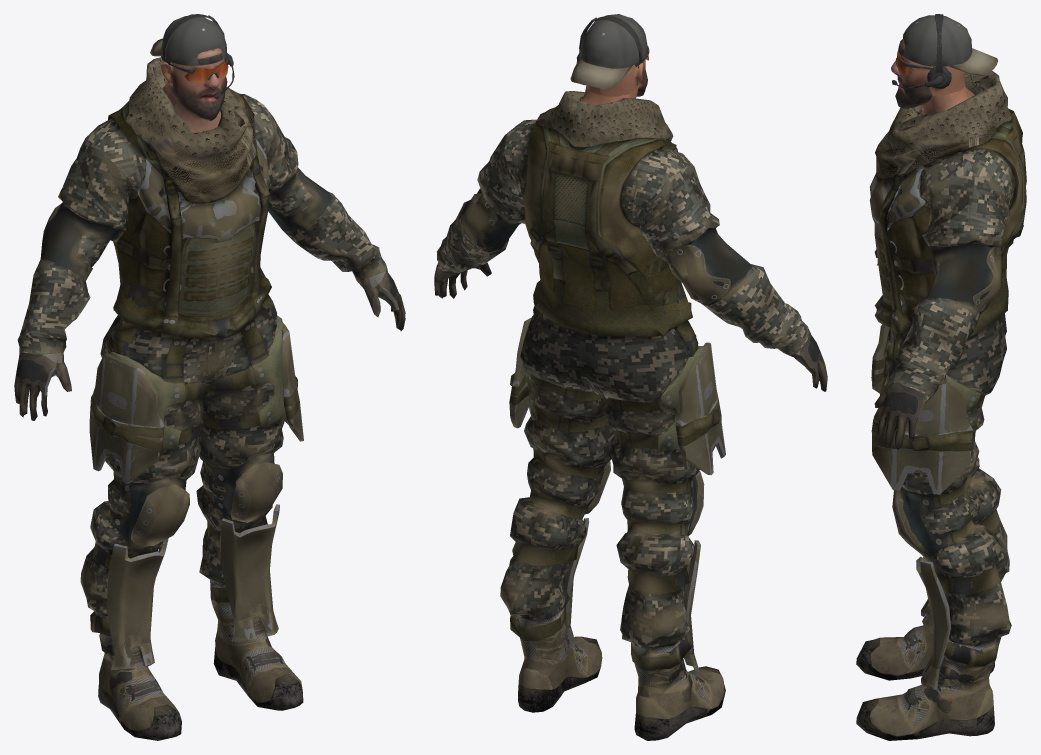
The model's file is hank__bloodstrike.glb.
3 views of the same model, side by side, from view 1: azimuth 30°, elevation 25°; view 2: azimuth 150°, elevation 25°; view 3: azimuth 270°, elevation 25° (orthographic).
Visible parts, largest first — view 1: mesh_5_7.nr_0, mesh_5_8.nr_1; view 2: mesh_5_7.nr_0, mesh_5_8.nr_1; view 3: mesh_5_7.nr_0, mesh_5_8.nr_1.
Part boxes in pixels (left/top/right/bottom): mesh_5_7.nr_0: left=14, top=57, right=405, bottom=740; mesh_5_8.nr_1: left=150, top=14, right=234, bottom=132; mesh_5_7.nr_0: left=434, top=91, right=827, bottom=740; mesh_5_8.nr_1: left=570, top=14, right=649, bottom=105; mesh_5_7.nr_0: left=856, top=71, right=1026, bottom=740; mesh_5_8.nr_1: left=891, top=14, right=997, bottom=115.
Size of the model in its own units: 1.01 by 1.72 by 0.3886.
Materials: 2 (2 with a texture image).
